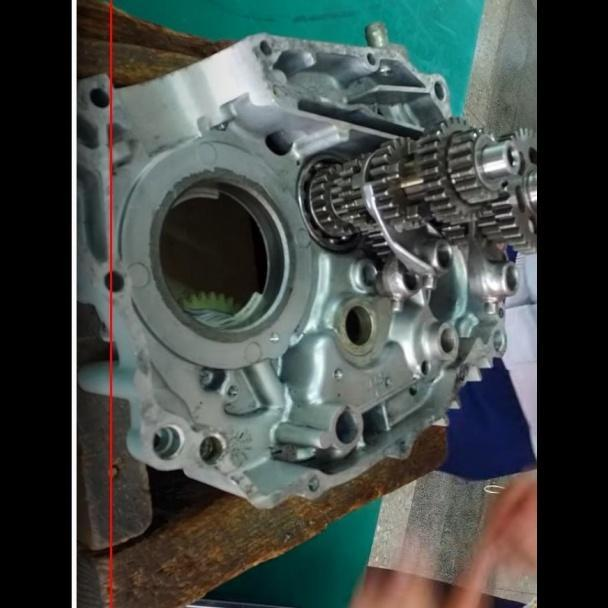hole: (305, 475, 321, 492), (333, 367, 344, 381), (224, 385, 238, 396)
